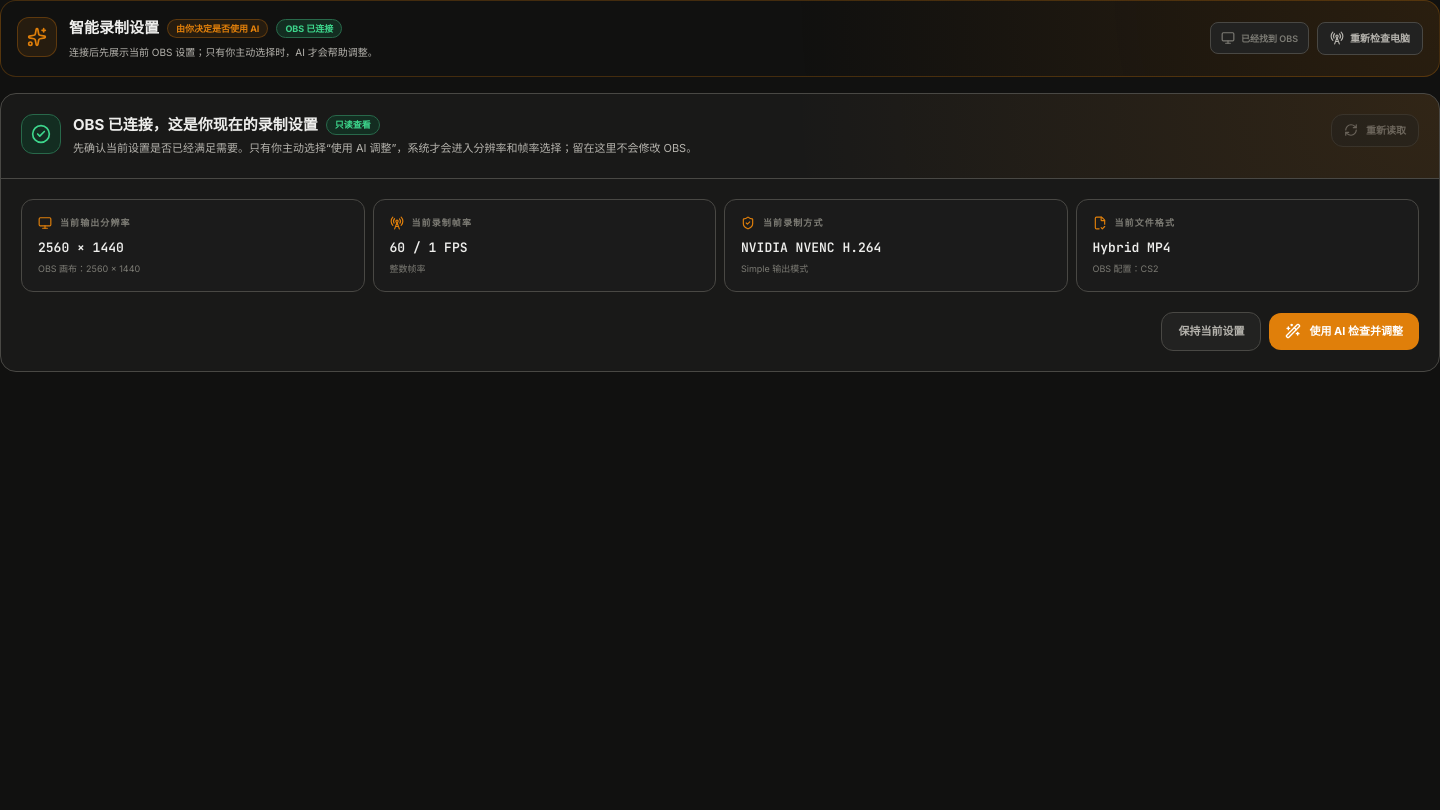
Test: ObsAiSettingsPanel connection gate › opens the prototype workspace immediately after an existing connection is known
Expected: the heading "OBS 已连接，这是你现在的录制设置" is shown, [73, 114, 318, 136]
Expected: the text "2560 × 1440" is shown, [38, 239, 124, 256]
Step 1. Click the button "保持当前设置" → (1212, 331), box [1162, 312, 1262, 351]
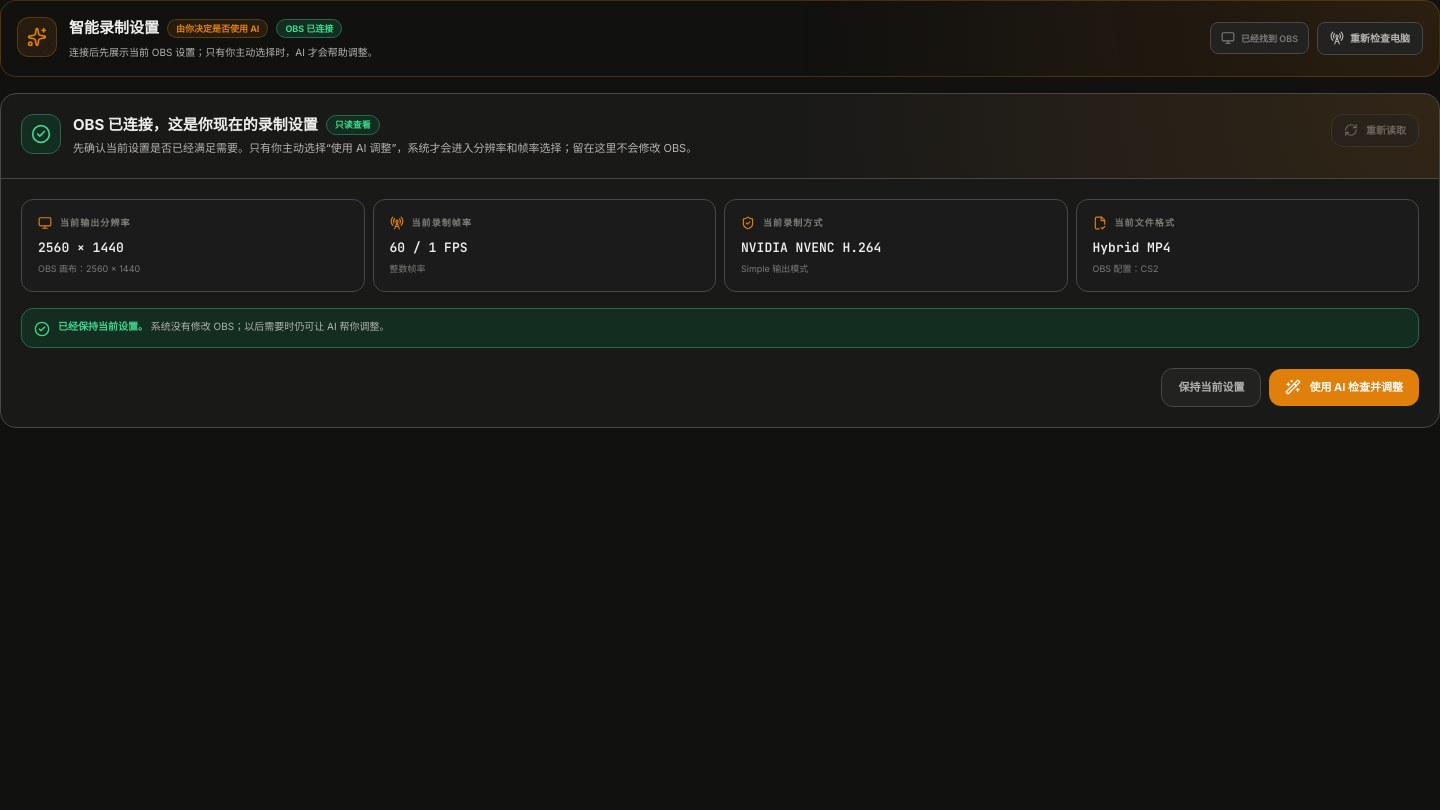
Now the text "已经保持当前设置。" is shown, box [58, 320, 148, 332]
Step 2. Click the button "使用 AI 检查并调整" → (1344, 387), box [1270, 369, 1419, 406]
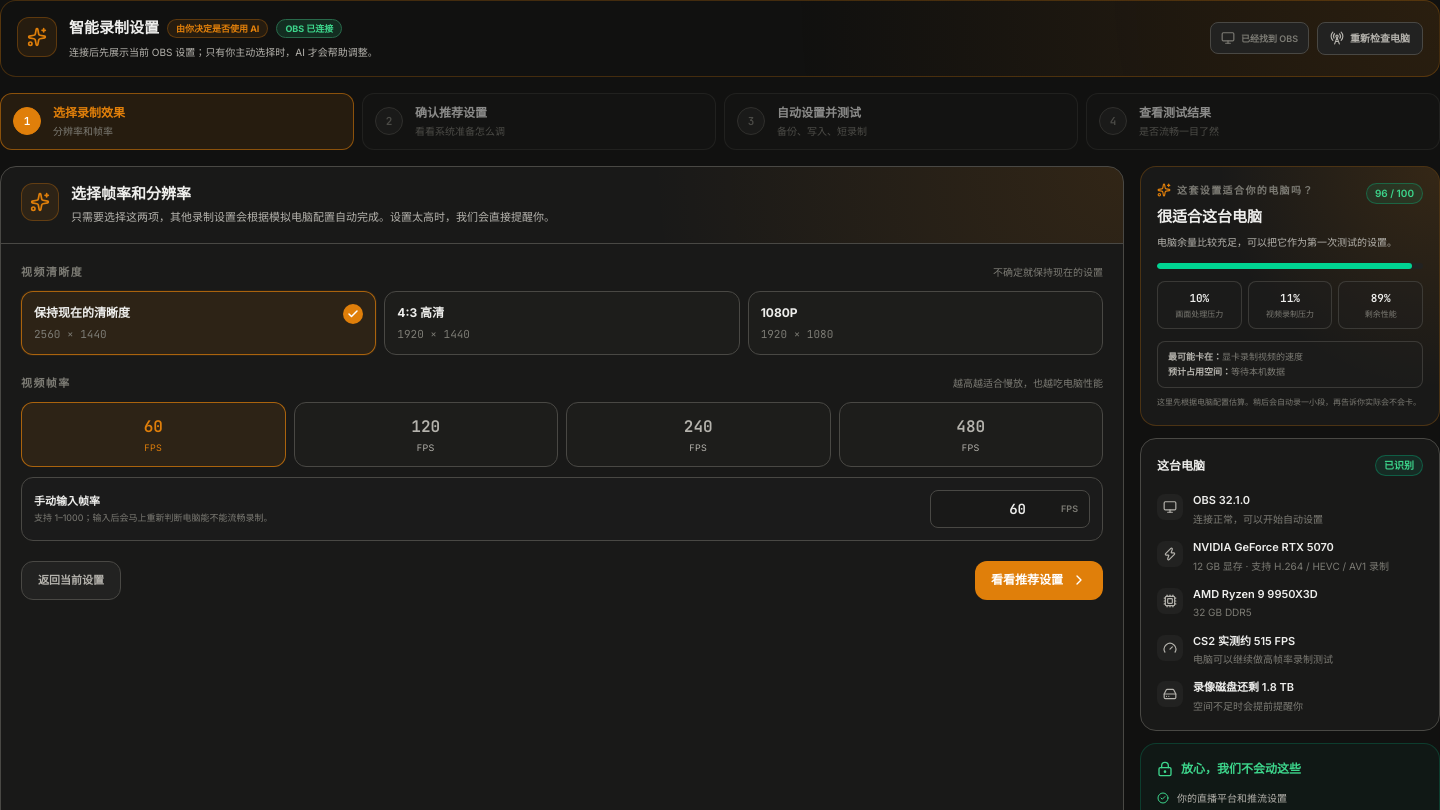
Now the heading "选择帧率和分辨率" is shown, box [71, 184, 191, 203]
Now the button "480 FPS" is shown, box [838, 402, 1103, 467]
